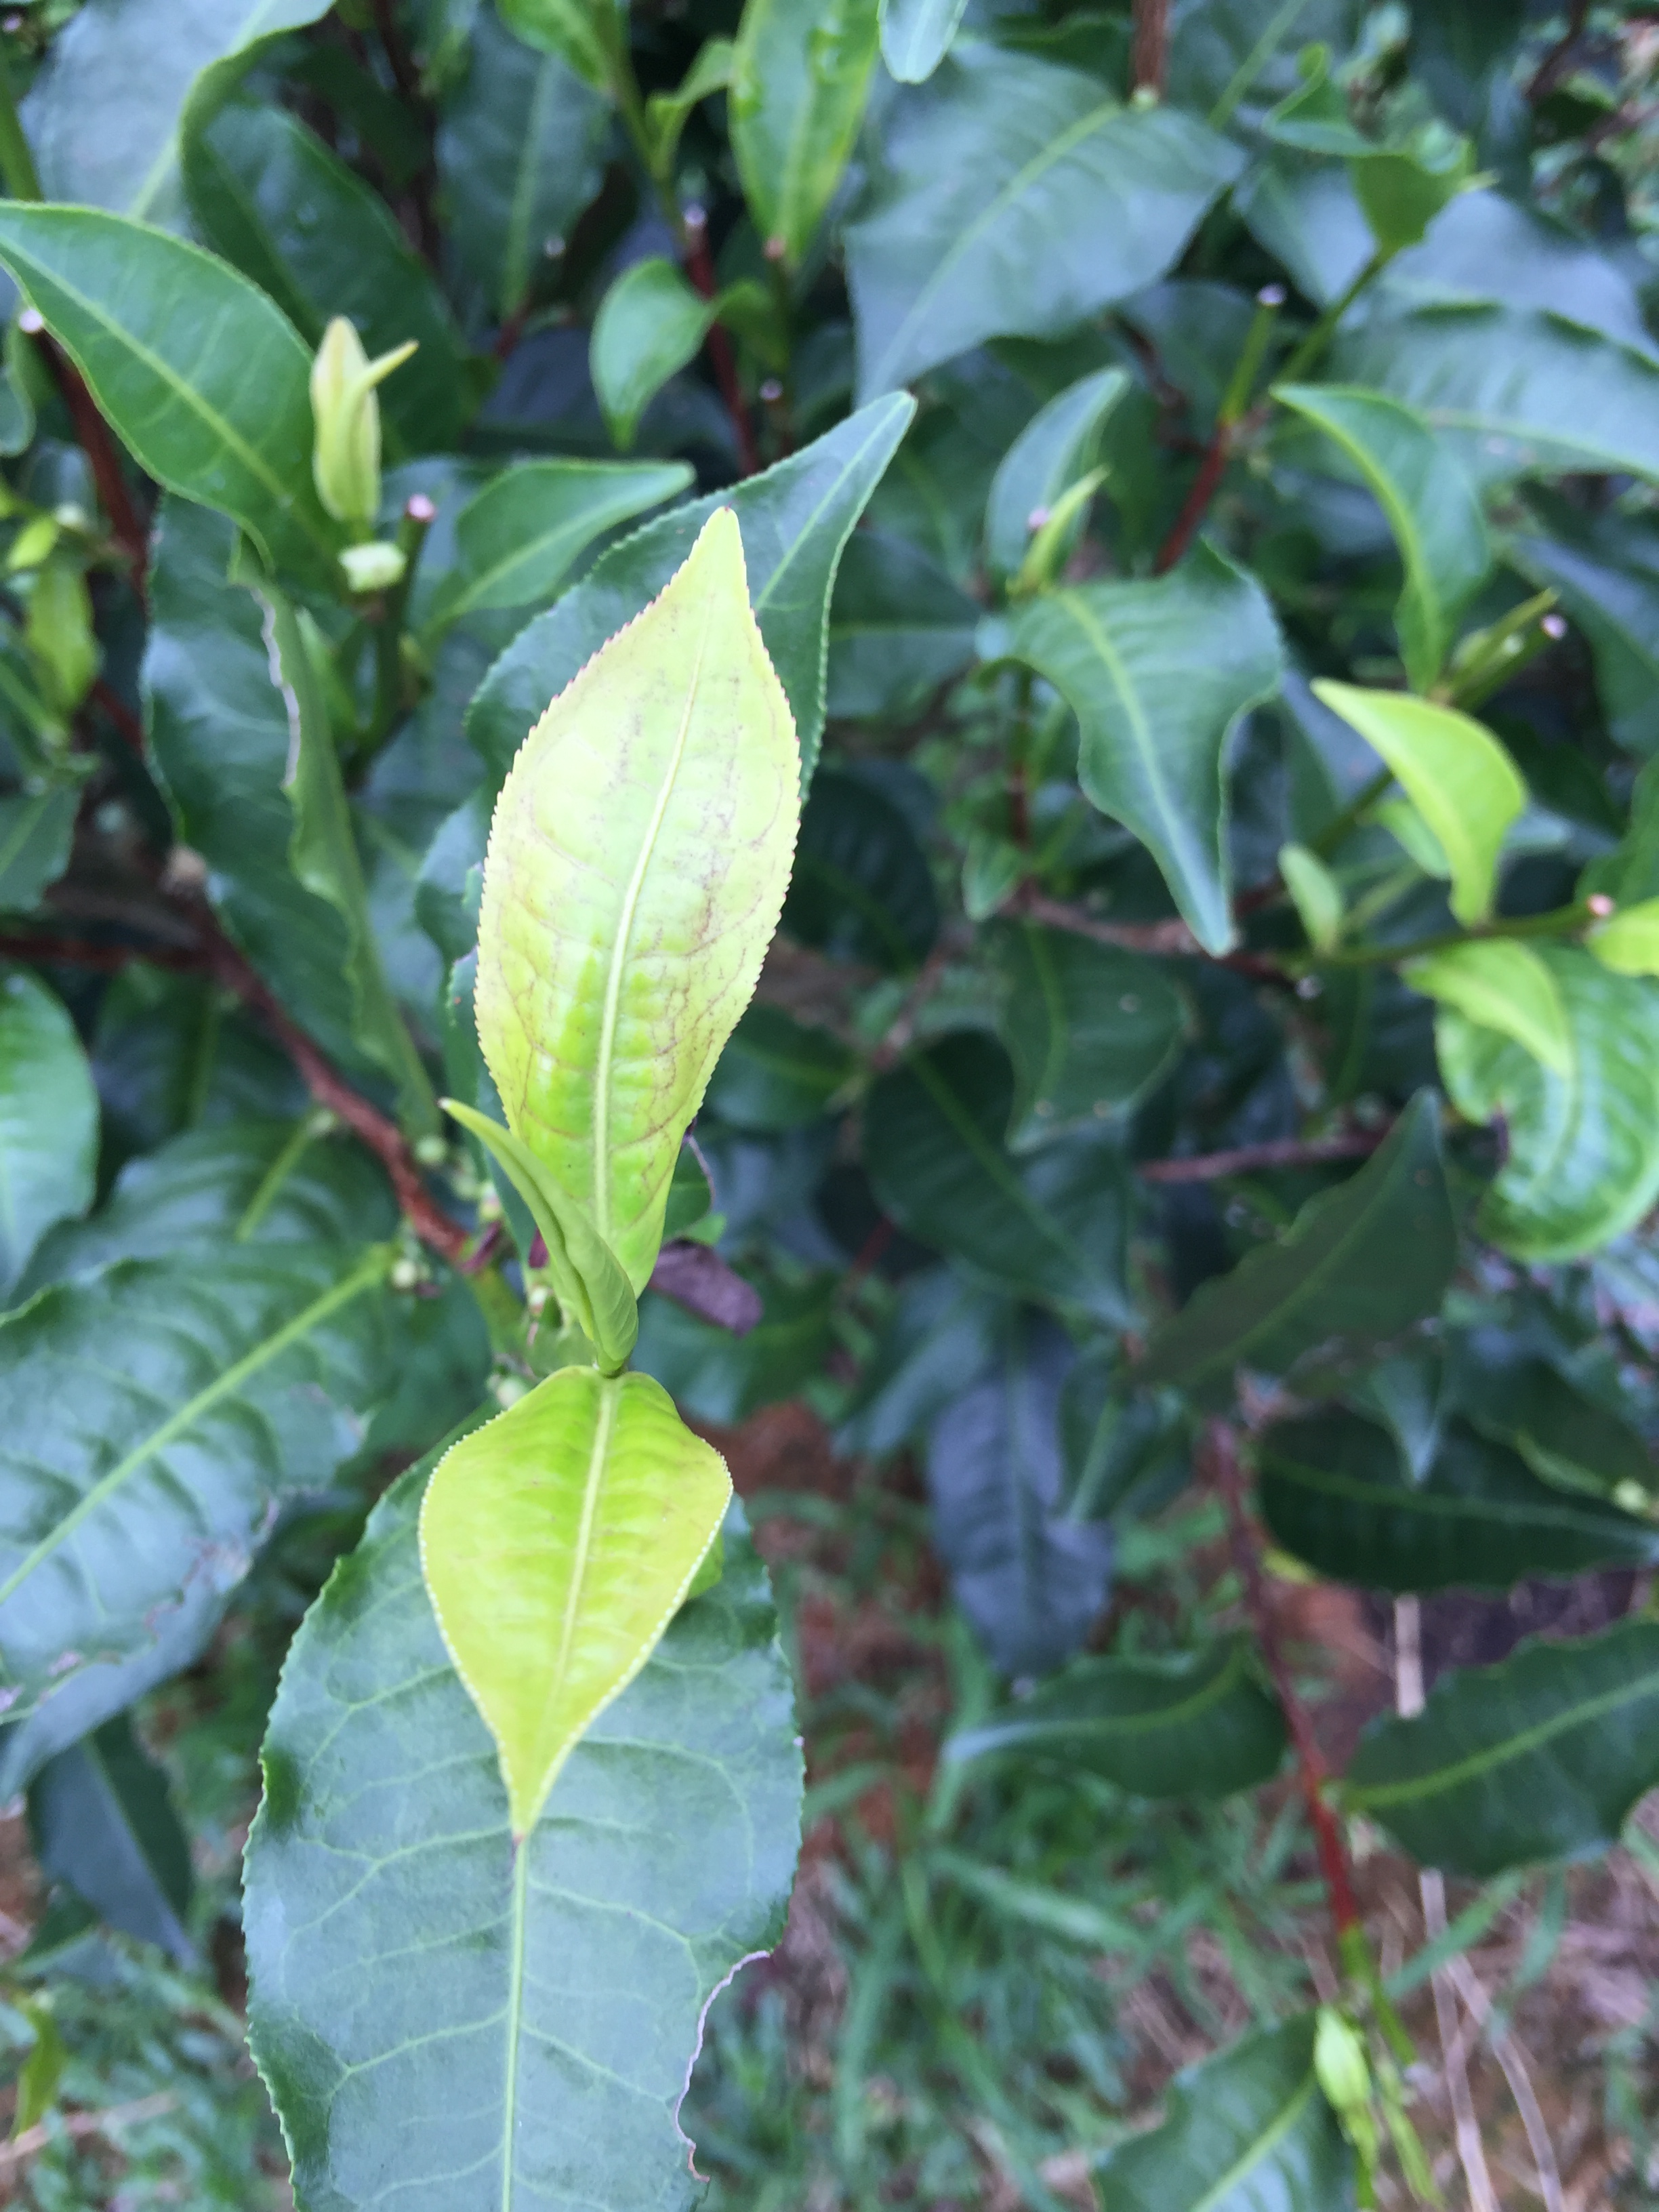formosa: (458, 467, 809, 1367)
